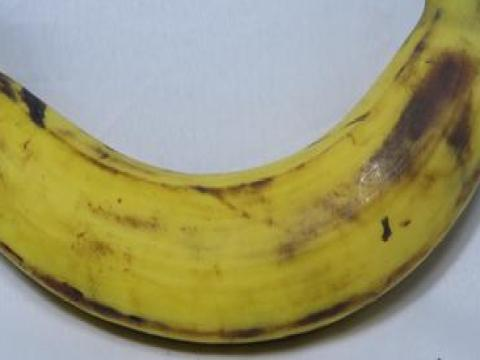overripe: (0, 0, 479, 355)
